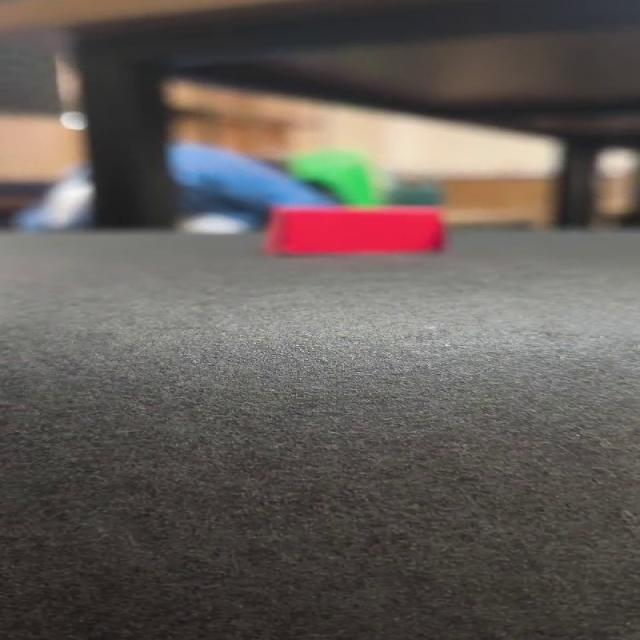red block: (263, 204, 447, 256)
